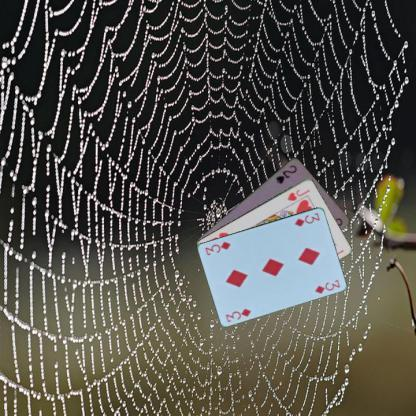2s: (273, 162, 298, 185)
3d: (292, 209, 322, 228), (223, 306, 252, 324)
Jh: (285, 186, 311, 202)
